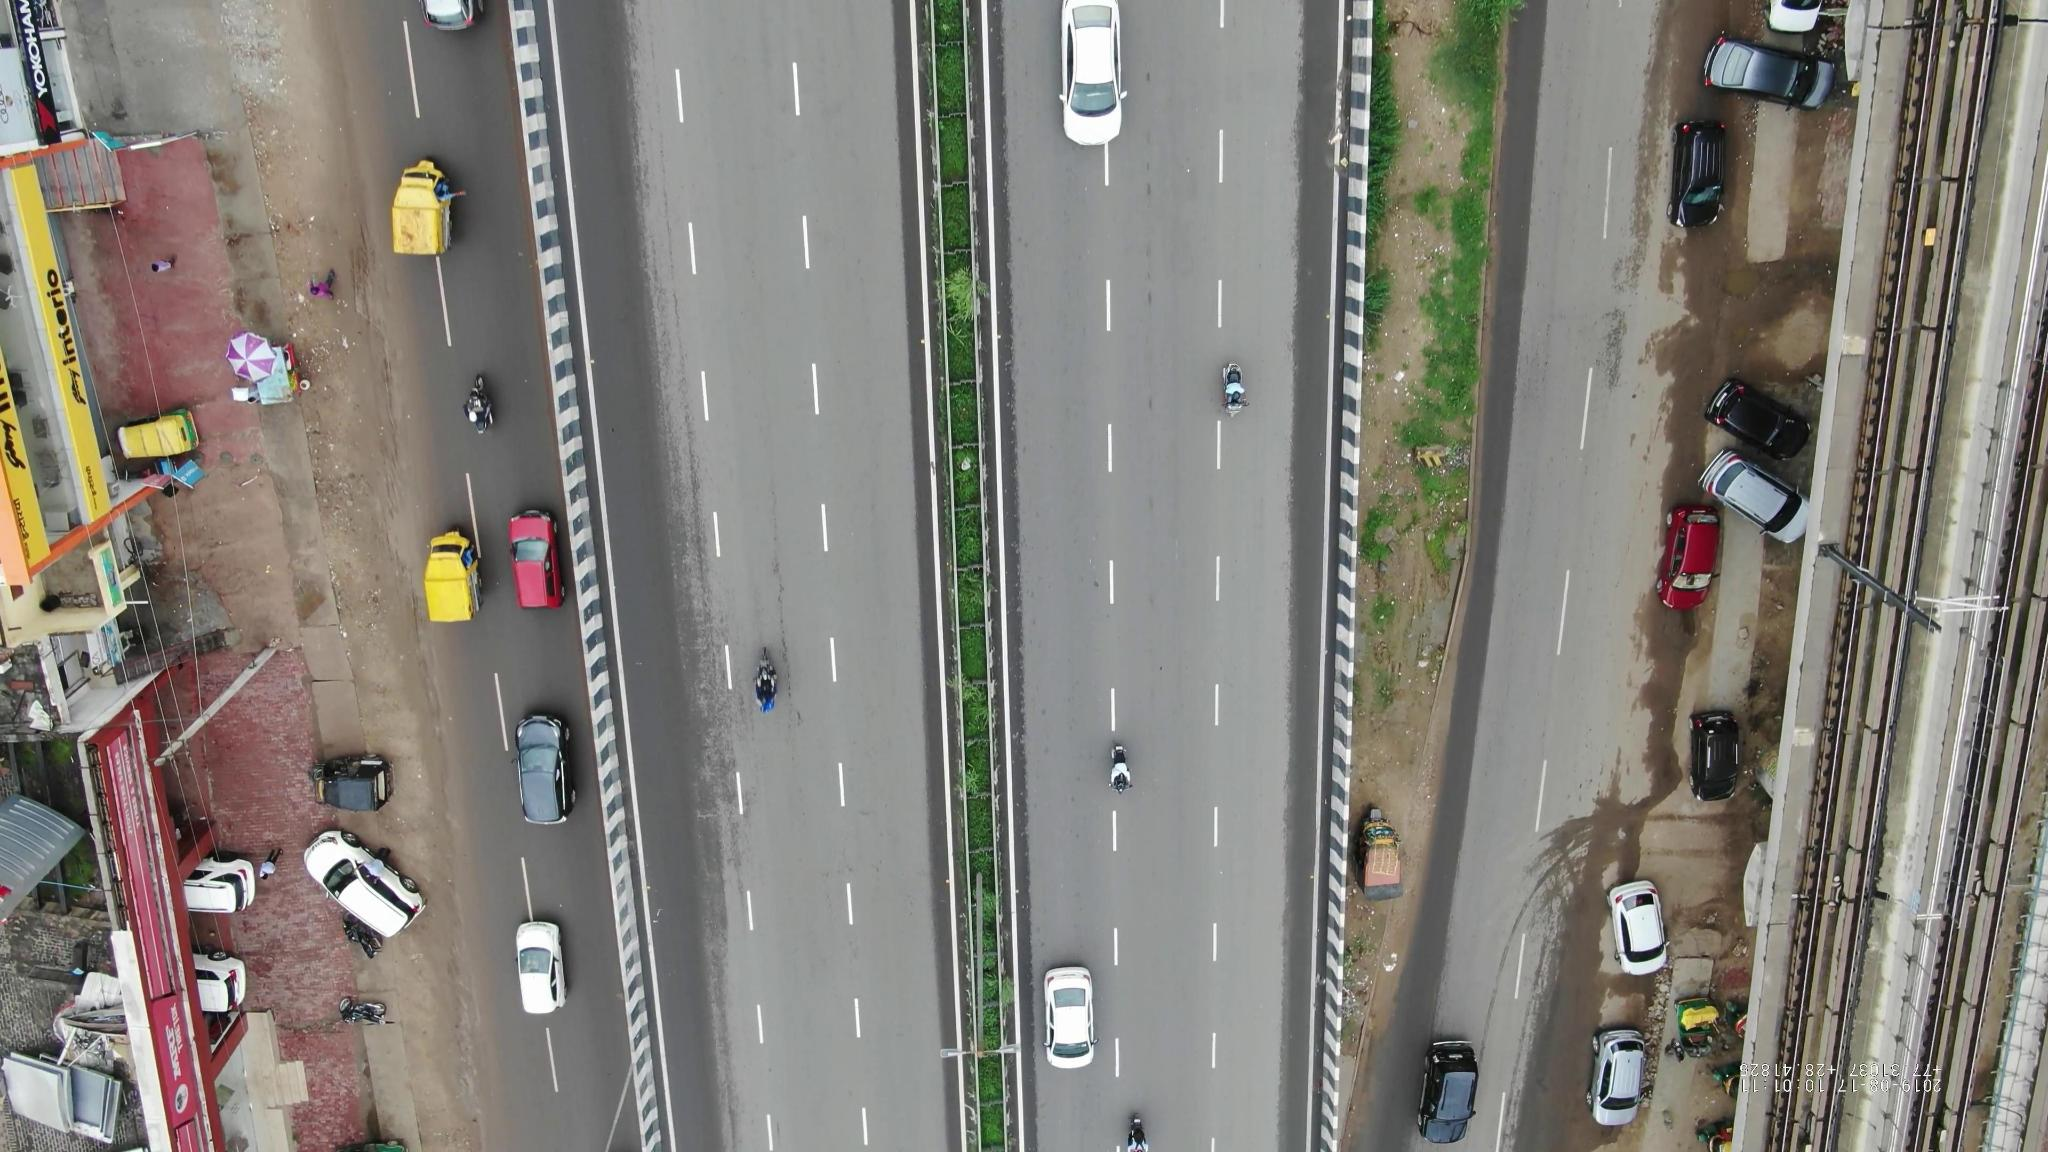Muddy_road: (295, 257, 421, 530), (367, 619, 471, 838), (416, 961, 495, 1122)
